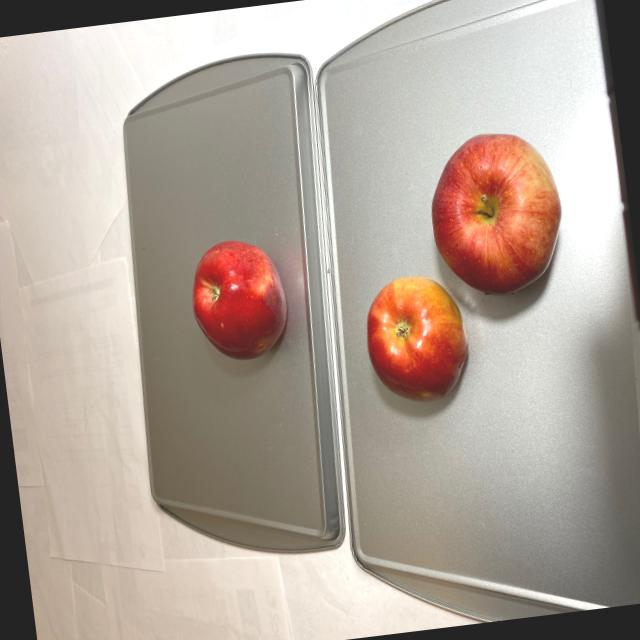apple: (344, 122, 584, 408), (185, 235, 296, 365)
